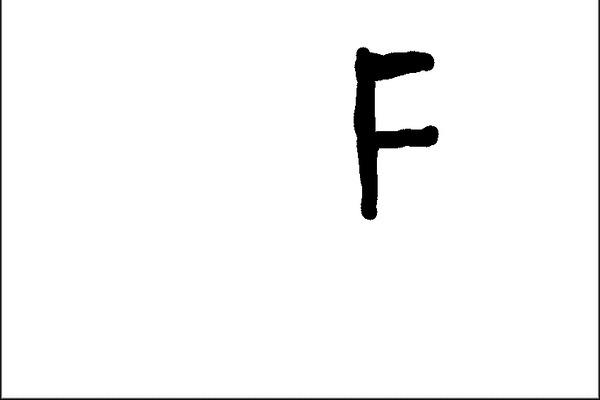F: (345, 42, 443, 222)
